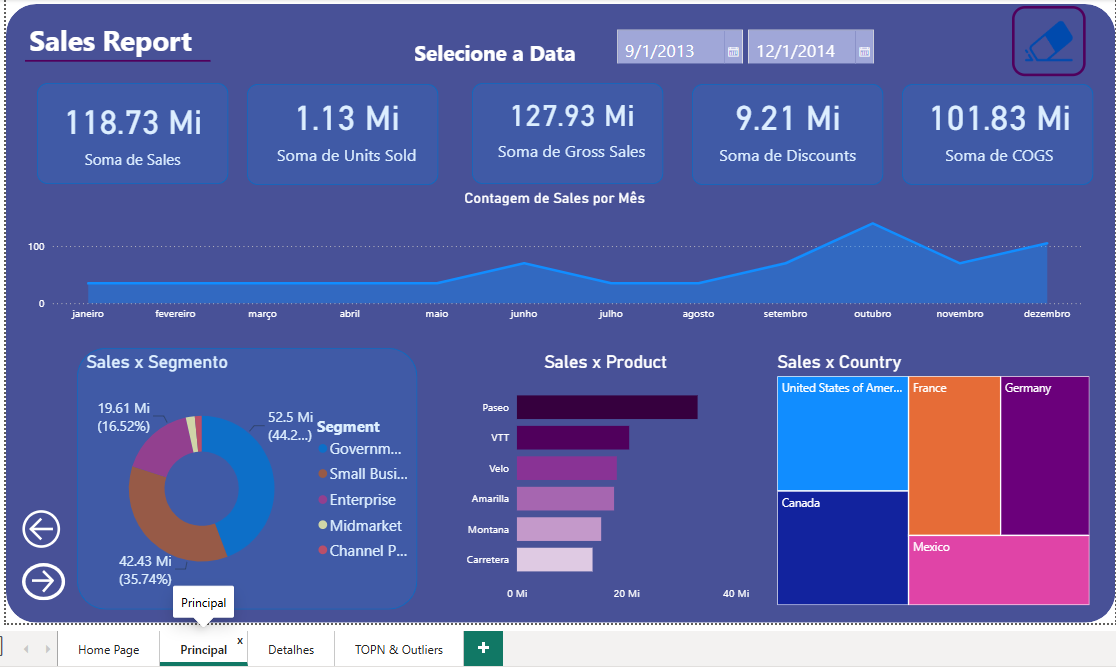

This screenshot's page, from the dashboard's own definition file:
{"tool":"powerbi","page":{"name":"Principal","canvas":[1280,720],"ordinal":1},"visuals":[{"type":"shape","box":[0,6.2,1280,714],"z":0},{"type":"slicer","fields":{"Values":["financials.Date"]},"box":[692.7,25.1,418.3,49.4],"z":0,"group":"g2"},{"type":"shape","box":[22.7,52.3,214.3,36.5],"z":0,"group":"g4"},{"type":"cardVisual","fields":{"Data":["Sum(financials. Sales)"]},"box":[27.5,98.6,238,119.8],"z":0,"group":"g1"},{"type":"donutChart","title":"Sales x Segmento","fields":{"Category":["financials.Segment"],"Y":["Sum(financials. Sales)"]},"box":[87.8,407.3,391.2,292.4],"z":0,"group":"g3"},{"type":"actionButton","box":[17.1,647,51.3,49.8],"z":0,"group":"g5"},{"type":"textbox","box":[22.2,19,211.1,55.6],"z":1000,"group":"g4"},{"type":"textbox","box":[466.7,40.4,262.1,47.1],"z":1000,"group":"g2"},{"type":"group","id":"g1","title":"Cartões ","box":[27.5,97,1236.3,121.3],"z":1000},{"type":"cardVisual","fields":{"Data":["Sum(financials.Units Sold)"]},"box":[277.9,100.1,230.6,106.7],"z":1000,"group":"g1"},{"type":"shape","box":[82.4,402.8,392.7,301.7],"z":1000,"group":"g3"},{"type":"shape","box":[18.6,651,49.8,43],"z":1000,"group":"g5"},{"type":"image","title":"clean","box":[1160.9,7.9,84.7,80.8],"z":2000,"group":"g2"},{"type":"cardVisual","fields":{"Data":["Sum(financials.Gross Sales)"]},"box":[537.6,98.6,230.6,106.7],"z":2000,"group":"g1"},{"type":"treemap","title":"Sales x Country","fields":{"Group":["financials.Country"],"Values":["Sum(financials. Sales)"]},"box":[885,407.5,370.2,297.1],"z":2000},{"type":"cardVisual","fields":{"Data":["Sum(financials.Discounts)"]},"box":[786.5,100.1,230.6,106.7],"z":3000,"group":"g1"},{"type":"areaChart","fields":{"Category":["financials.Date.Variation.Hierarquia de datas.Mês"],"Y":["CountNonNull(financials. Sales)"]},"box":[19,219,1227,161.9],"z":3000},{"type":"cardVisual","fields":{"Data":["Sum(financials.COGS)"]},"box":[1029.1,97,234.7,111.1],"z":4000,"group":"g1"},{"type":"clusteredBarChart","title":"Sales x Product","fields":{"Y":["Sum(financials. Sales)"],"Category":["financials.Product"]},"box":[521,407.5,340.6,297.1],"z":4000},{"type":"group","id":"g2","title":"Filtro por data","box":[466.7,7.9,778.9,80.8],"z":5000},{"type":"group","id":"g3","title":"Sales x Segmento","box":[82.4,402.8,391.9,301.7],"z":6000},{"type":"group","id":"g4","title":"Title report","box":[22.2,19,214.8,69.8],"z":7000},{"type":"actionButton","box":[12.4,581.7,56,60.7],"z":8000},{"type":"group","id":"g5","title":"Grupo 1","box":[17.1,647,51.3,49.8],"z":9000},{"type":"shape","box":[35.8,96.4,220.9,116.6],"z":10000},{"type":"shape","box":[278.4,98,220.9,116.6],"z":10001},{"type":"shape","box":[538.1,96.4,220.9,116.6],"z":10002},{"type":"shape","box":[791.6,98,220.9,116.6],"z":10003},{"type":"shape","box":[1034.3,98,220.9,116.6],"z":10004}]}

Visuals, with their boxes on the page's 1280x720 design canvas (x1, y1, x2, y2). These are canvas units, not pixel positions in the 1116x667 screenshot, which may show the page scaled, cropped or inside an application window:
shape: select_region(0, 6, 1280, 720)
slicer - financials.Date: select_region(693, 25, 1111, 74)
shape: select_region(23, 52, 237, 89)
cardVisual - Sum(financials. Sales): select_region(28, 99, 266, 218)
"Sales x Segmento" donutChart: select_region(88, 407, 479, 700)
actionButton: select_region(17, 647, 68, 697)
textbox: select_region(22, 19, 233, 75)
textbox: select_region(467, 40, 729, 88)
"Cartões " group: select_region(28, 97, 1264, 218)
cardVisual - Sum(financials.Units Sold): select_region(278, 100, 508, 207)
shape: select_region(82, 403, 475, 704)
shape: select_region(19, 651, 68, 694)
"clean" image: select_region(1161, 8, 1246, 89)
cardVisual - Sum(financials.Gross Sales): select_region(538, 99, 768, 205)
"Sales x Country" treemap: select_region(885, 408, 1255, 705)
cardVisual - Sum(financials.Discounts): select_region(786, 100, 1017, 207)
areaChart - financials.Date.Variation.Hierarquia de datas.Mês x CountNonNull(financials. Sales): select_region(19, 219, 1246, 381)
cardVisual - Sum(financials.COGS): select_region(1029, 97, 1264, 208)
"Sales x Product" clusteredBarChart: select_region(521, 408, 862, 705)
"Filtro por data" group: select_region(467, 8, 1246, 89)
"Sales x Segmento" group: select_region(82, 403, 474, 704)
"Title report" group: select_region(22, 19, 237, 89)
actionButton: select_region(12, 582, 68, 642)
"Grupo 1" group: select_region(17, 647, 68, 697)
shape: select_region(36, 96, 257, 213)
shape: select_region(278, 98, 499, 215)
shape: select_region(538, 96, 759, 213)
shape: select_region(792, 98, 1012, 215)
shape: select_region(1034, 98, 1255, 215)
